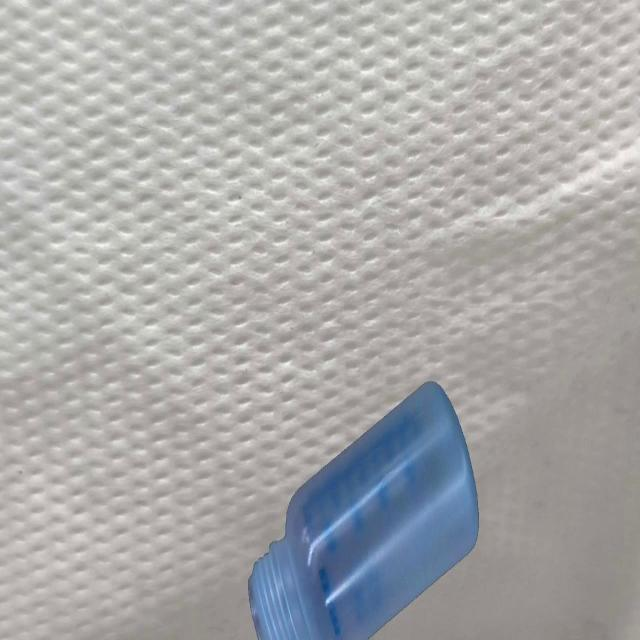bottle: (248, 376, 480, 640)
